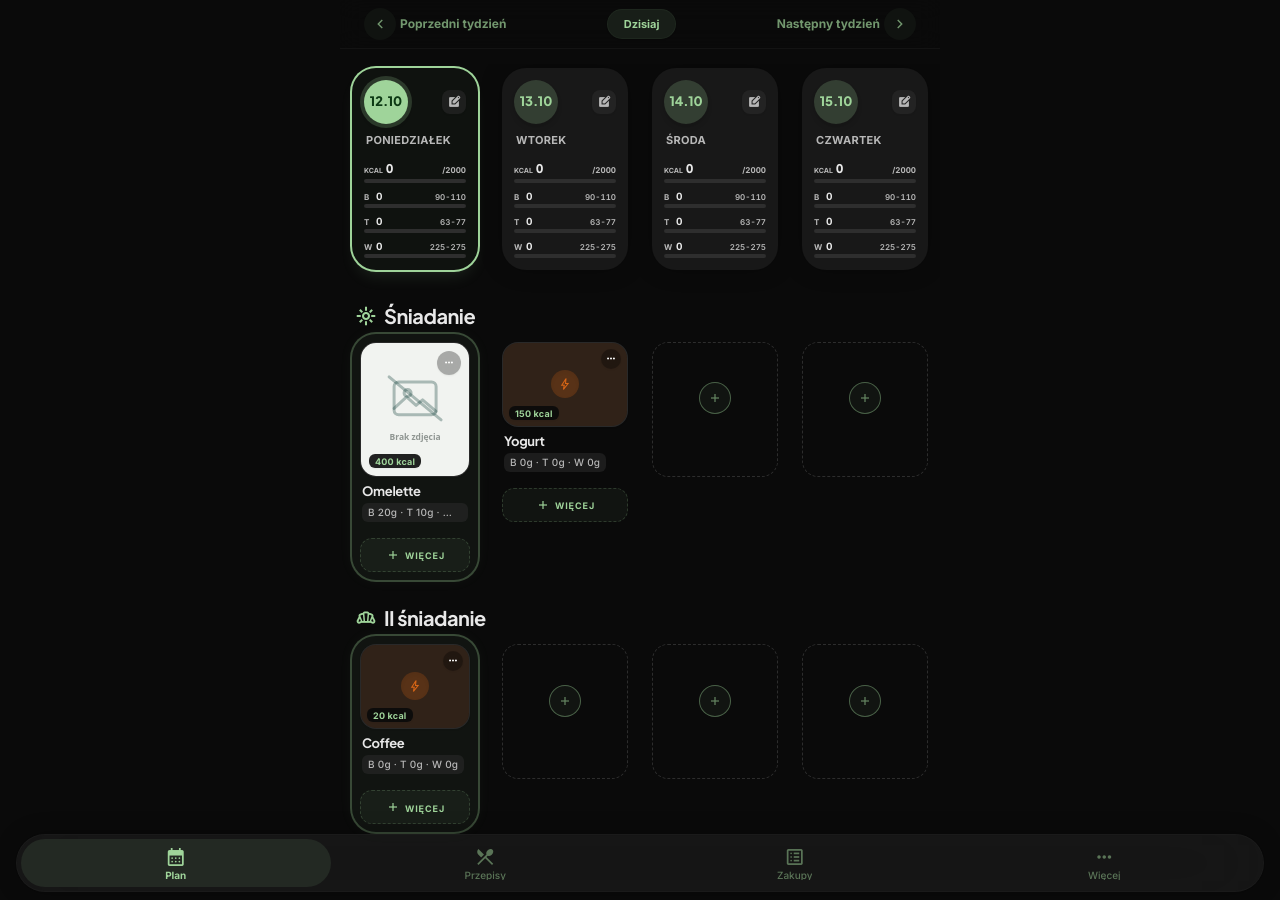
Test: Plan copying › overwrites the meals in the target slot and undoes it
What coordinates should you click on to do the following:
click the 5th button "more_horiz"
I would click on:
 (449, 362)
Its box is top-left (437, 350), bottom-right (461, 374).
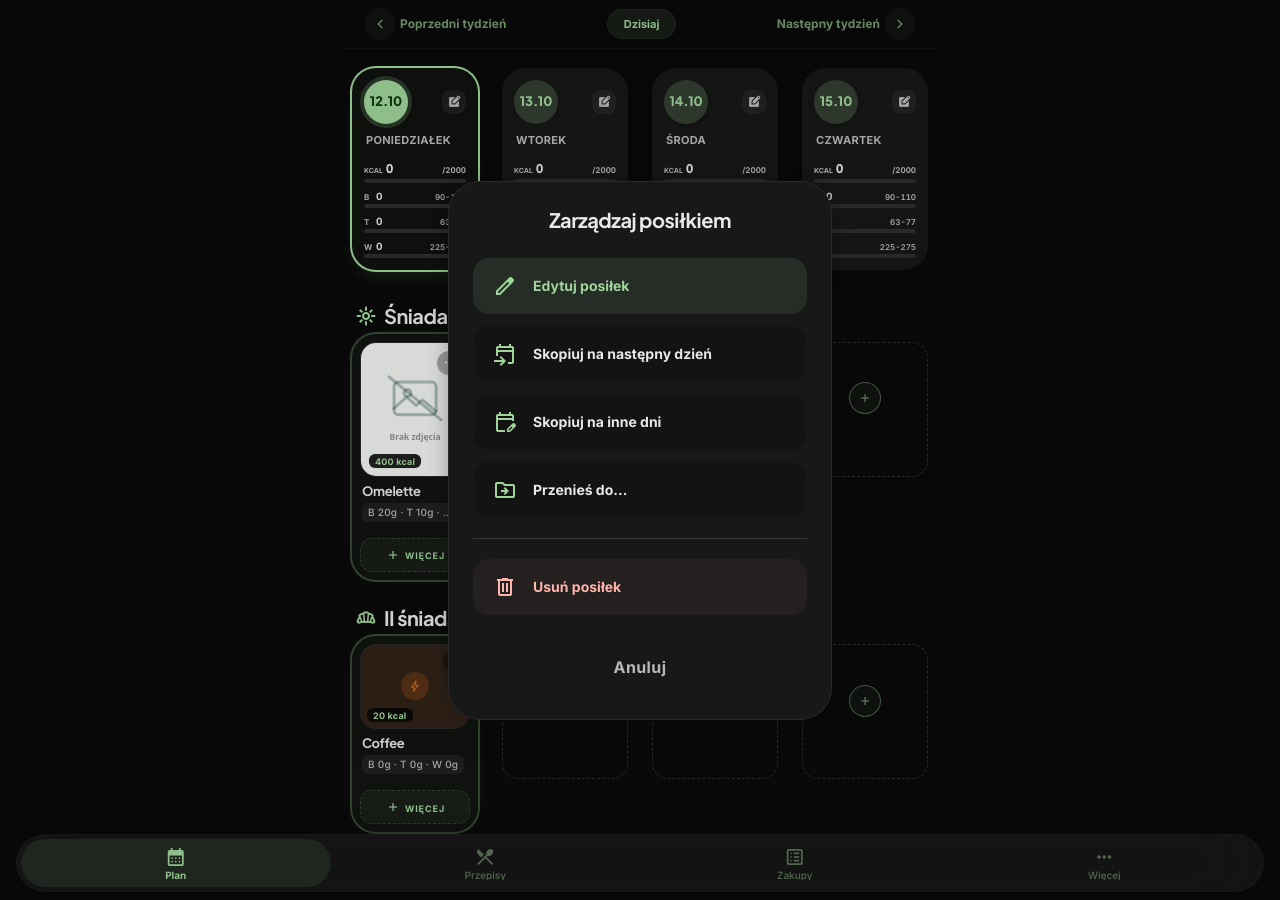
What coordinates should you click on to do the following:
click the button "Skopiuj na następny dzień"
I would click on:
 (640, 354)
Its box is top-left (473, 326), bottom-right (807, 382).
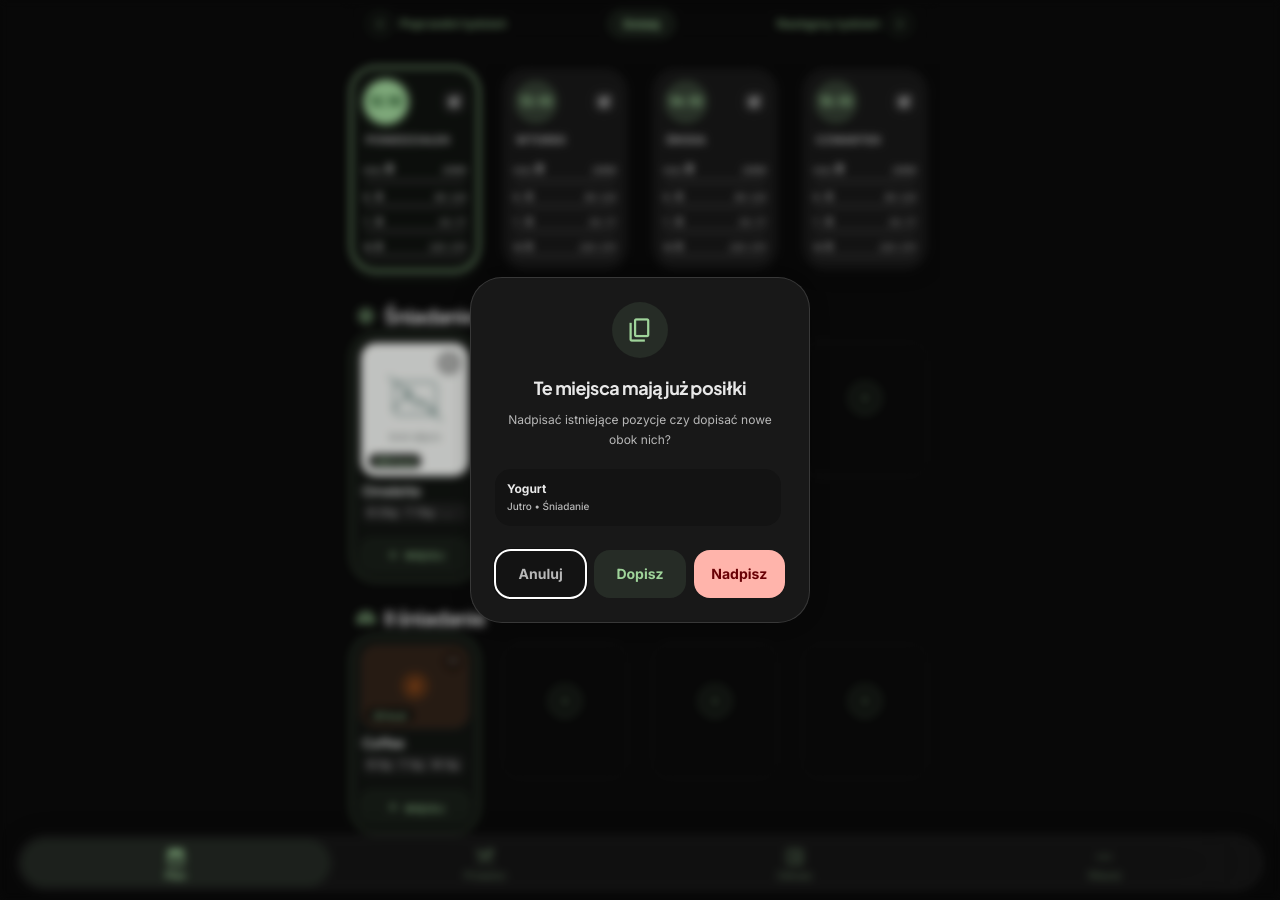
What coordinates should you click on to do the following:
click the button "Nadpisz"
I would click on:
 (739, 574)
Its box is top-left (694, 550), bottom-right (785, 598).
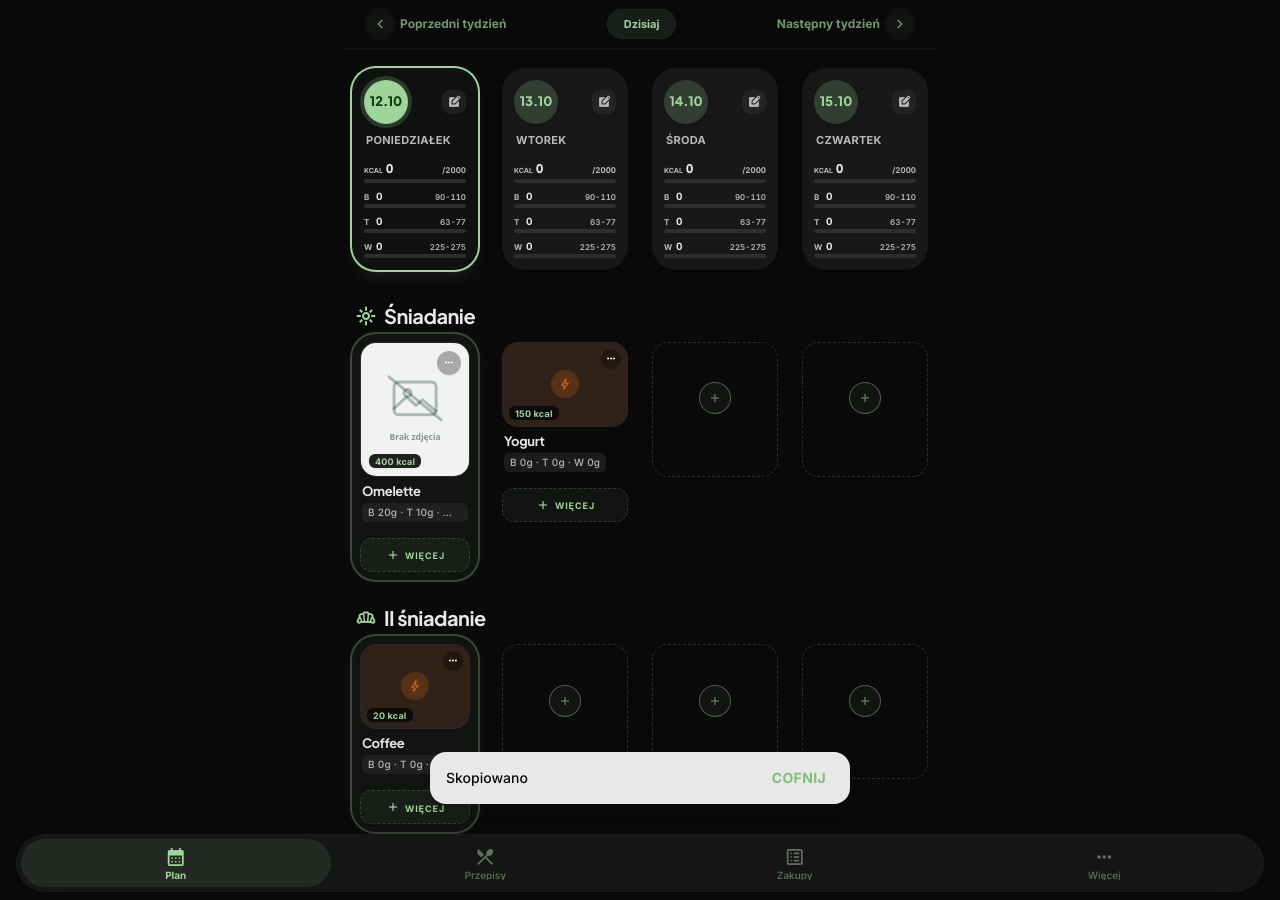
expect the text "Skopiowano" is shown: met, box top-left (446, 768), bottom-right (528, 788)
What coordinates should you click on to do the following:
click the button "Cofnij"
I would click on:
 (799, 778)
Its box is top-left (764, 764), bottom-right (834, 792).
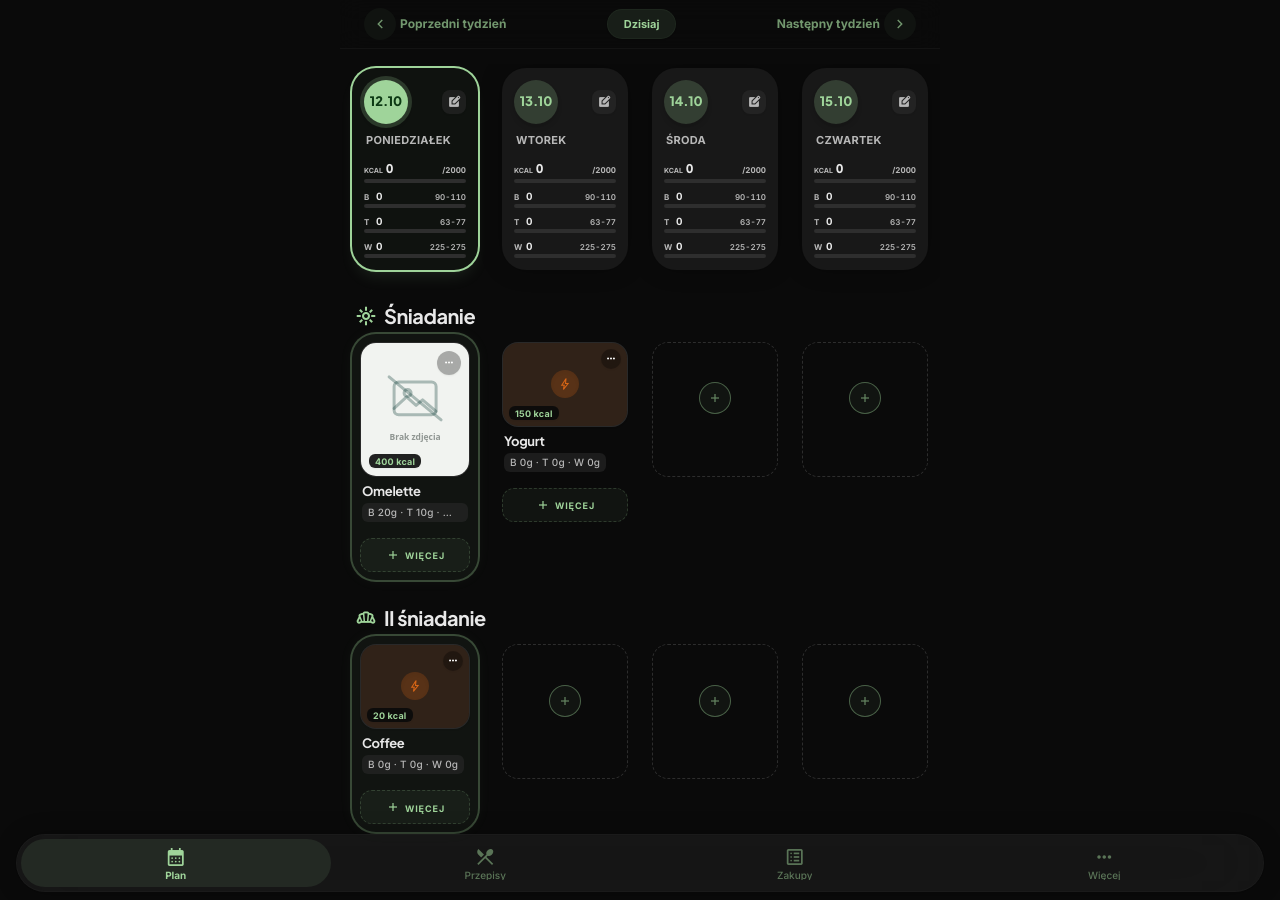
expect the text "Skopiowano" is gone: met
